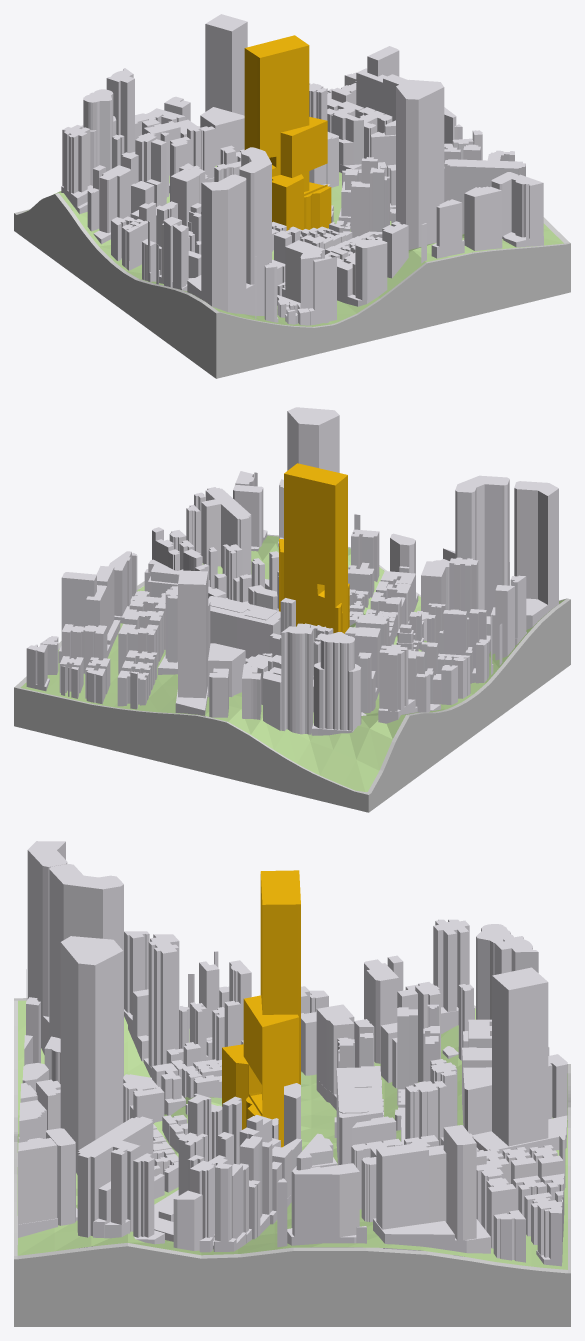
File: 白色加黃沒改模型.glb
3 renders of one model, top to bottom at view 1: azimuth 30°, elevation 25°; view 2: azimuth 150°, elevation 25°; view 3: azimuth 270°, elevation 25°, orthographic. The views are drawn at different scales.
Visible parts, largest first — view 1: Model, Group679, Group518, Group680, Group304, Group215, Group43, Group678, Group224, Group357, Group154, Group25 (+44 smaller); view 2: Model, Group678, Group680, Group679, Group215, Group304, Group43, Group636, Group518, Group357, Group172, Group82 (+45 smaller); view 3: Group679, Group518, Group678, Group43, Model, Group215, Group680, Group224, Group45, Group357, Group196, Group304 (+66 smaller).
Part boxes in pixels (<box>): Model: <box>14,208,570,378</box>; Group679: <box>15,193,568,372</box>; Group518: <box>396,79,444,249</box>; Group680: <box>244,35,309,176</box>; Group304: <box>201,174,246,314</box>; Group215: <box>239,147,271,315</box>; Group43: <box>205,14,247,115</box>; Group678: <box>24,165,563,326</box>; Group224: <box>280,117,327,196</box>; Group357: <box>444,154,525,234</box>; Group154: <box>464,186,502,250</box>; Group25: <box>285,240,324,308</box>; Model: <box>14,534,570,812</box>; Group678: <box>20,535,564,791</box>; Group680: <box>284,463,347,633</box>; Group679: <box>15,581,569,806</box>; Group215: <box>455,475,509,616</box>; Group304: <box>514,481,558,612</box>; Group43: <box>178,570,208,698</box>; Group636: <box>281,623,313,734</box>; Group518: <box>287,407,339,472</box>; Group357: <box>201,487,251,575</box>; Group172: <box>314,662,361,730</box>; Group82: <box>208,596,280,658</box>; Group679: <box>17,998,567,1320</box>; Group518: <box>60,936,123,1174</box>; Group678: <box>17,1000,567,1269</box>; Group43: <box>492,967,548,1146</box>; Model: <box>14,998,570,1326</box>; Group215: <box>49,864,123,1076</box>; Group680: <box>260,870,300,1072</box>; Group224: <box>243,995,298,1146</box>; Group45: <box>292,1163,359,1247</box>; Group357: <box>77,1116,153,1248</box>; Group196: <box>376,1142,428,1229</box>; Group304: <box>27,841,67,1050</box>.
Bounding box in the file's own units: 32.52 × 19.52 × 32.11.
